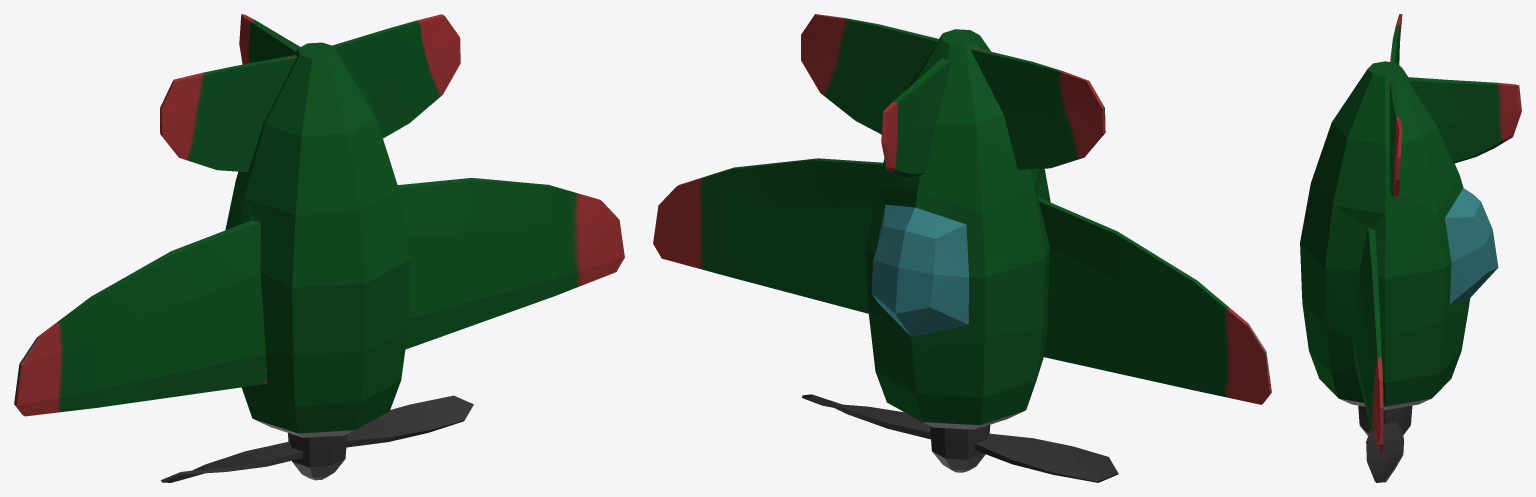
The model's file is myflyfly.dae.
3 views of the same model, side by side, from view 1: azimuth 30°, elevation 25°; view 2: azimuth 150°, elevation 25°; view 3: azimuth 270°, elevation 25° (orthographic). The views are drawn at different scales.
Visible parts, largest first — view 1: Cylinder.001; view 2: Cylinder.001; view 3: Cylinder.001.
Part boxes in pixels (x1,y1,x2,y2): Cylinder.001: (14, 14, 624, 482); Cylinder.001: (653, 14, 1271, 482); Cylinder.001: (1300, 14, 1521, 482).
Size of the model in its own units: 6.95 by 2.49 by 4.64.
1 material, 1 textured.
